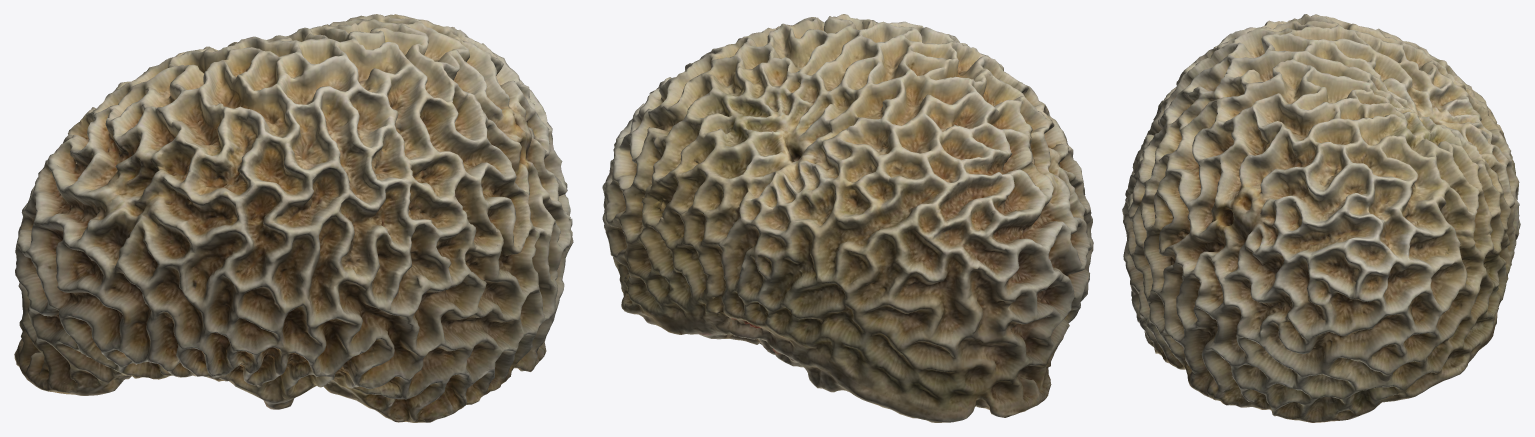
Rendered from usnm_91274-100k-2048_std_draco.glb.
3 views of the same model, side by side, from view 1: azimuth 30°, elevation 25°; view 2: azimuth 150°, elevation 25°; view 3: azimuth 270°, elevation 25° (orthographic). The views are drawn at different scales.
Size of the model in its own units: 0.0912 by 0.0593 by 0.0718.
Materials: 1 (1 with a texture image).
